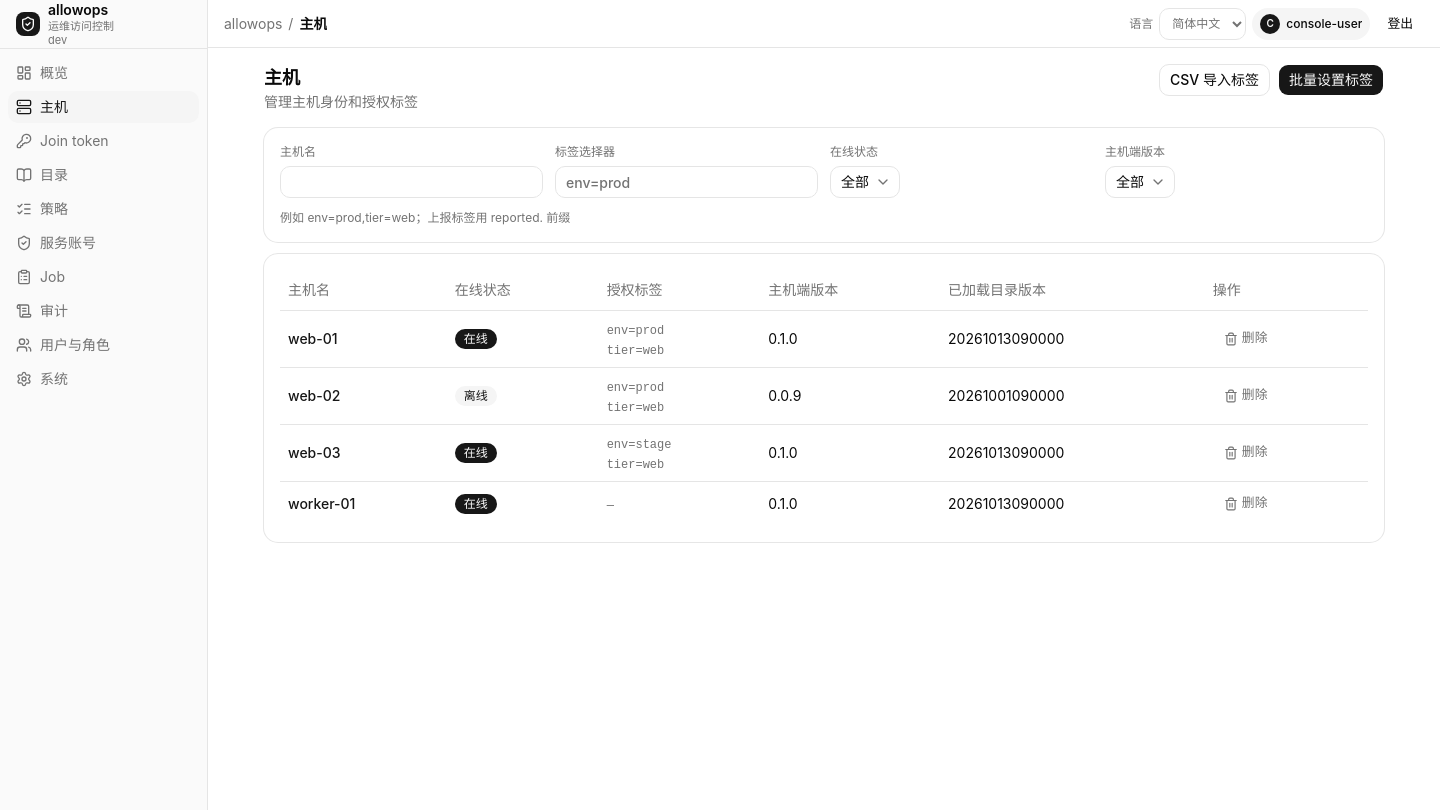
Scenario: console mutation workflows › requires deletion confirmation and preserves the host on cancel
Check: the heading "主机" is shown, box [264, 67, 300, 88]
Click the button with aria-label "删除主机 web-01" at (1246, 338), box [1213, 324, 1278, 352]
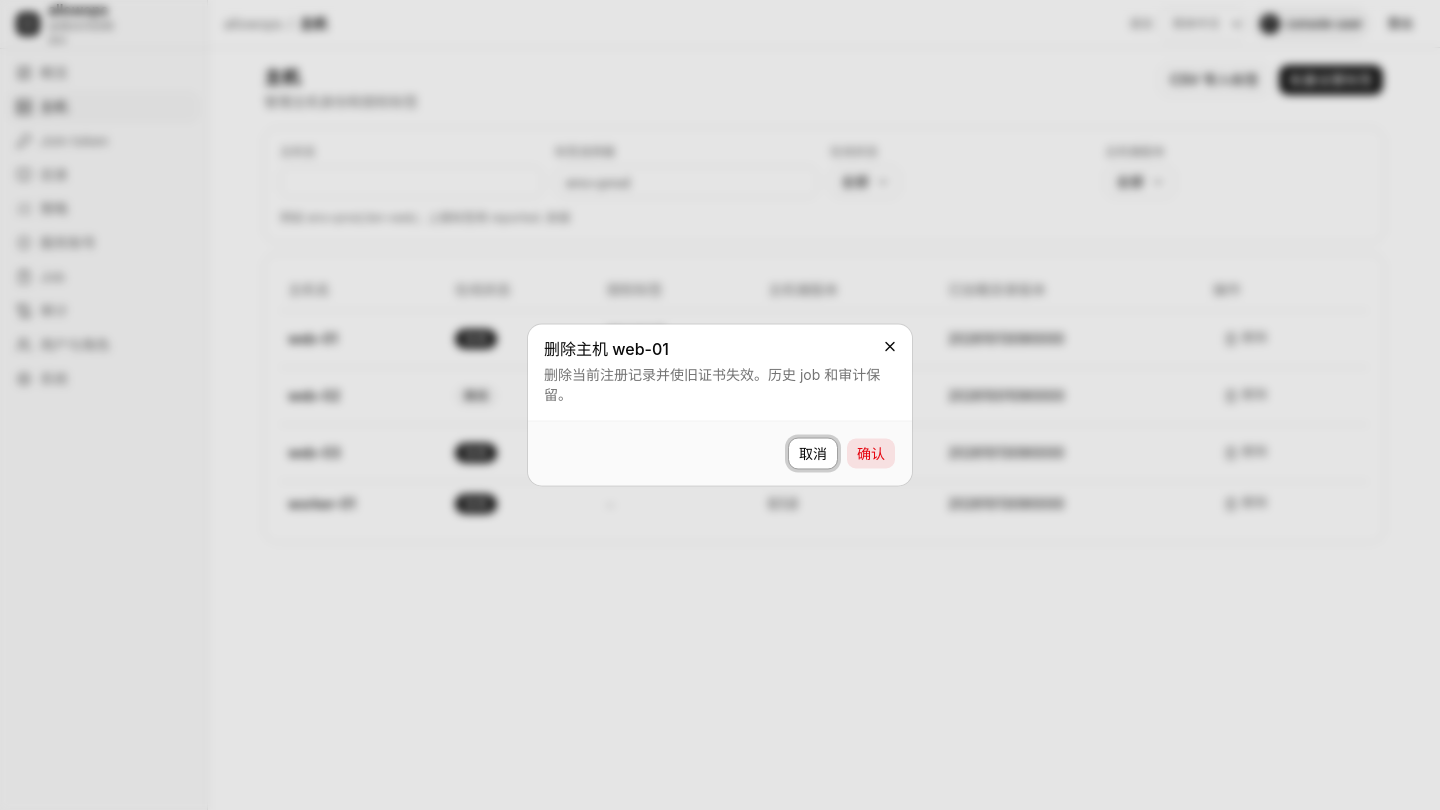
Click the button "取消" at (813, 454), box [788, 438, 838, 470]
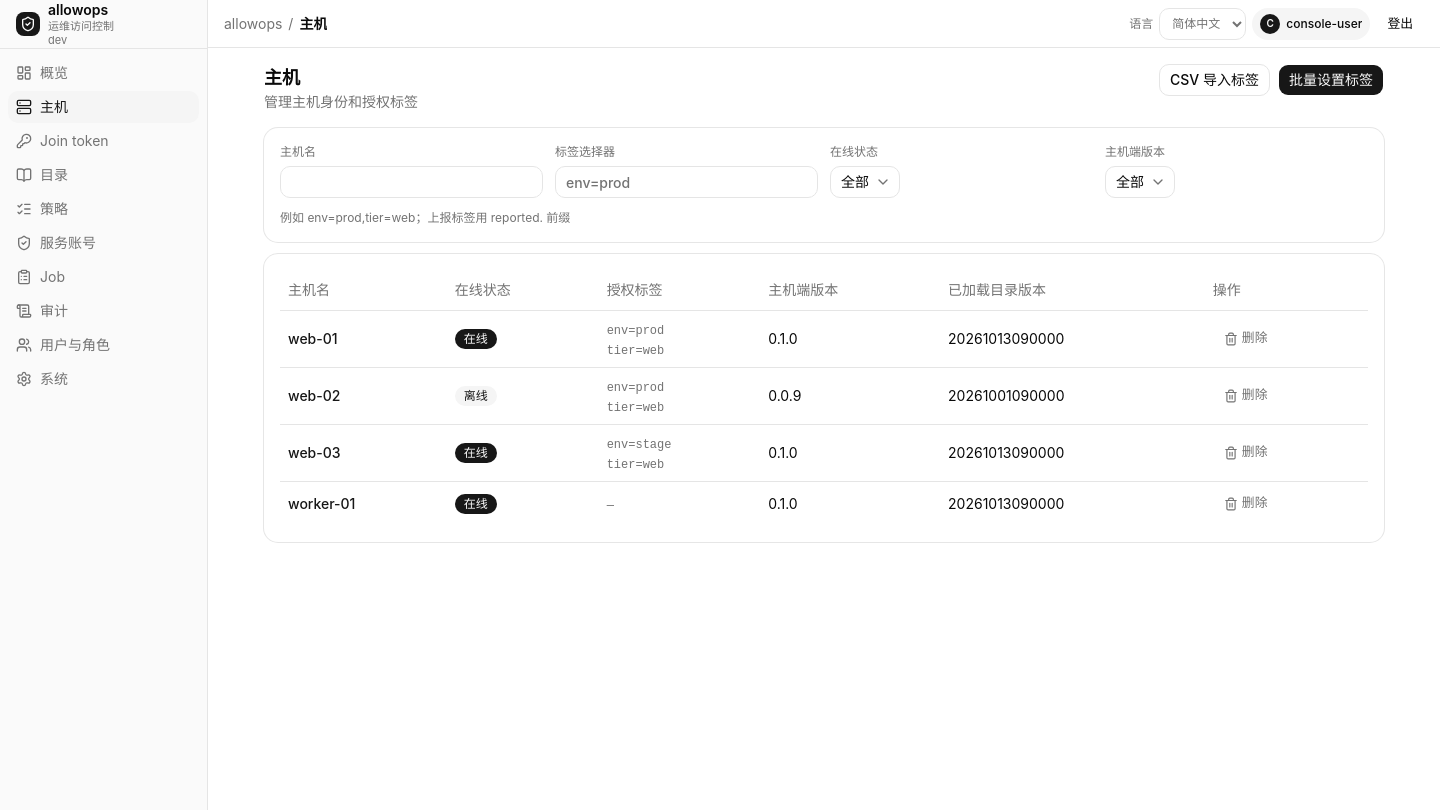
Check: the link "web-01" is shown, box [288, 330, 338, 346]
Click the button with aria-label "删除主机 web-01" at (1246, 338), box [1213, 324, 1278, 352]
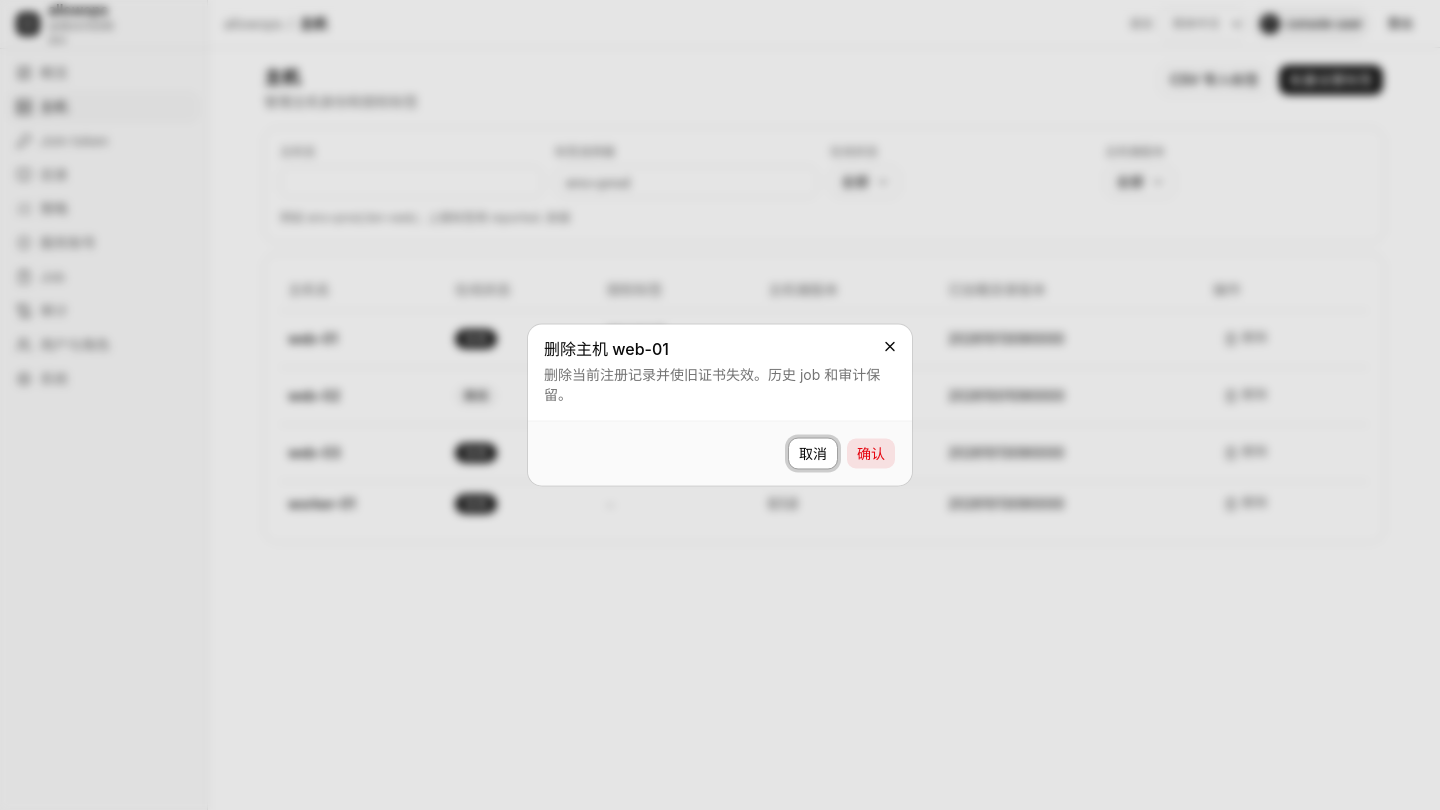
Click the button "确认" at (871, 454), box [846, 438, 896, 470]
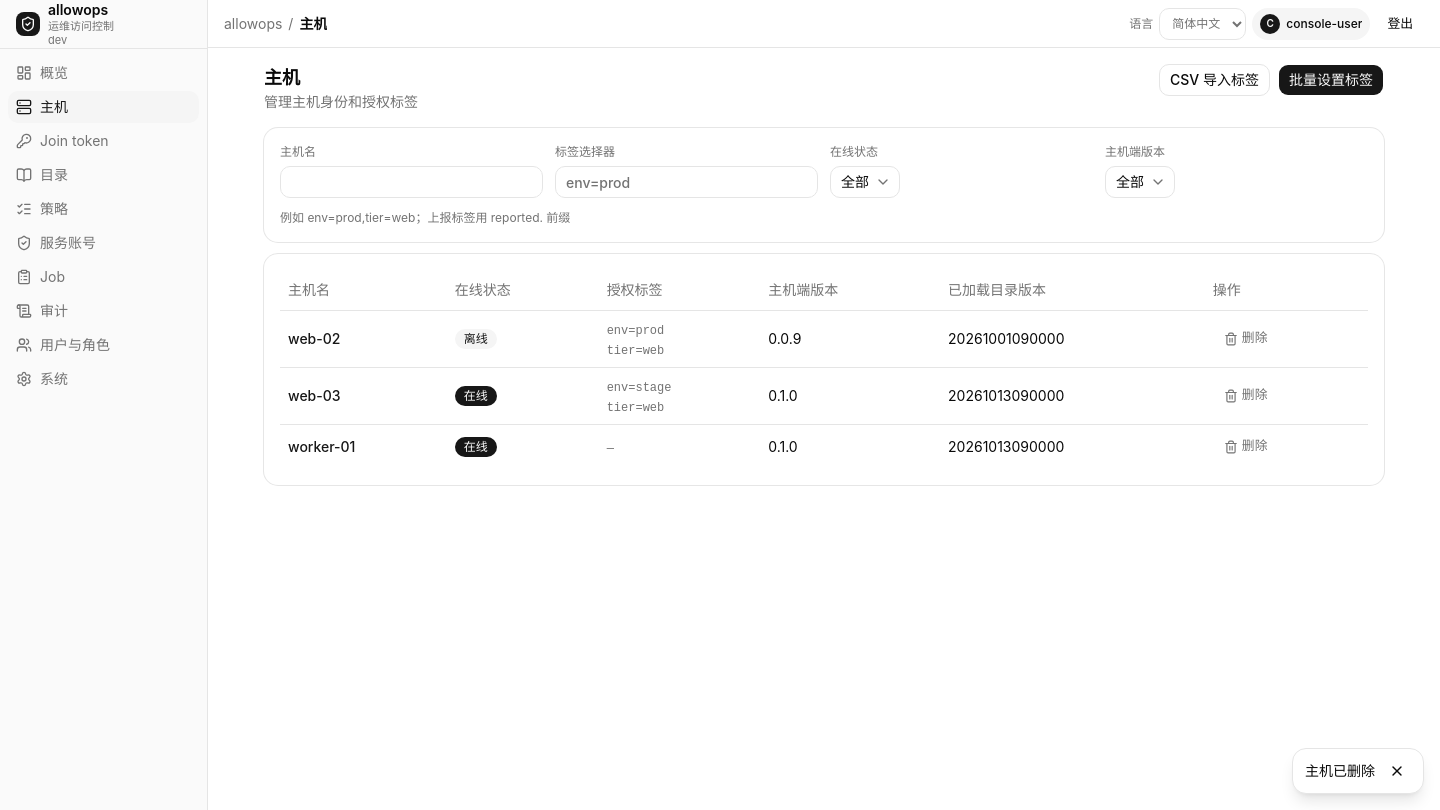
Check: the message reads "主机已删除", box [1305, 762, 1375, 779]
Check: the link "web-01" is gone
